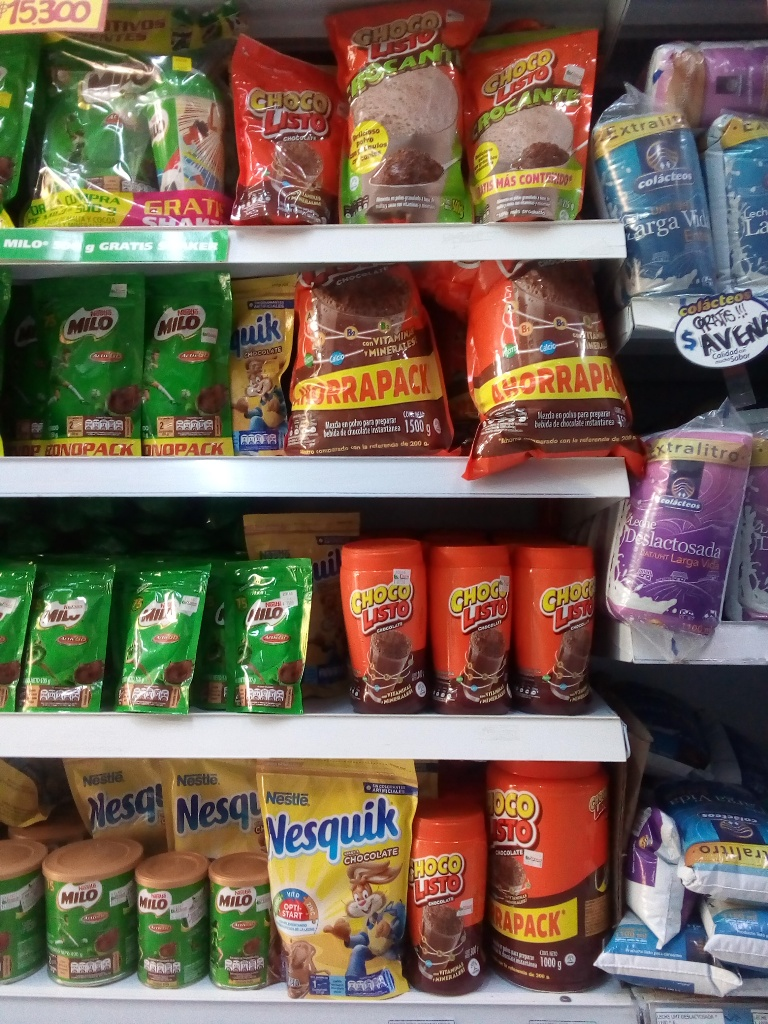COL0170102DYP50000: (330, 1, 487, 228)
COL0170103DYP1,500: (434, 233, 647, 471)
COL0170103TRR00100: (488, 754, 625, 995)
COL0170103TRR30000: (412, 801, 494, 994)
COL0170203DYP10000: (228, 566, 314, 710)
COL0170203DYP50000: (43, 35, 155, 221)
COL0170203LAT20000: (137, 846, 207, 986)
COL0170203LAT40000: (43, 848, 140, 986)
COL0170303DYP20000: (222, 264, 300, 457)
